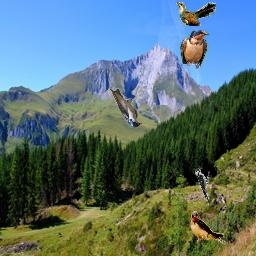Cuckoo: (176, 2, 216, 26)
Swallow: (190, 211, 228, 246), (109, 88, 142, 128), (180, 29, 209, 69)
Woodpecker: (195, 167, 210, 207)
